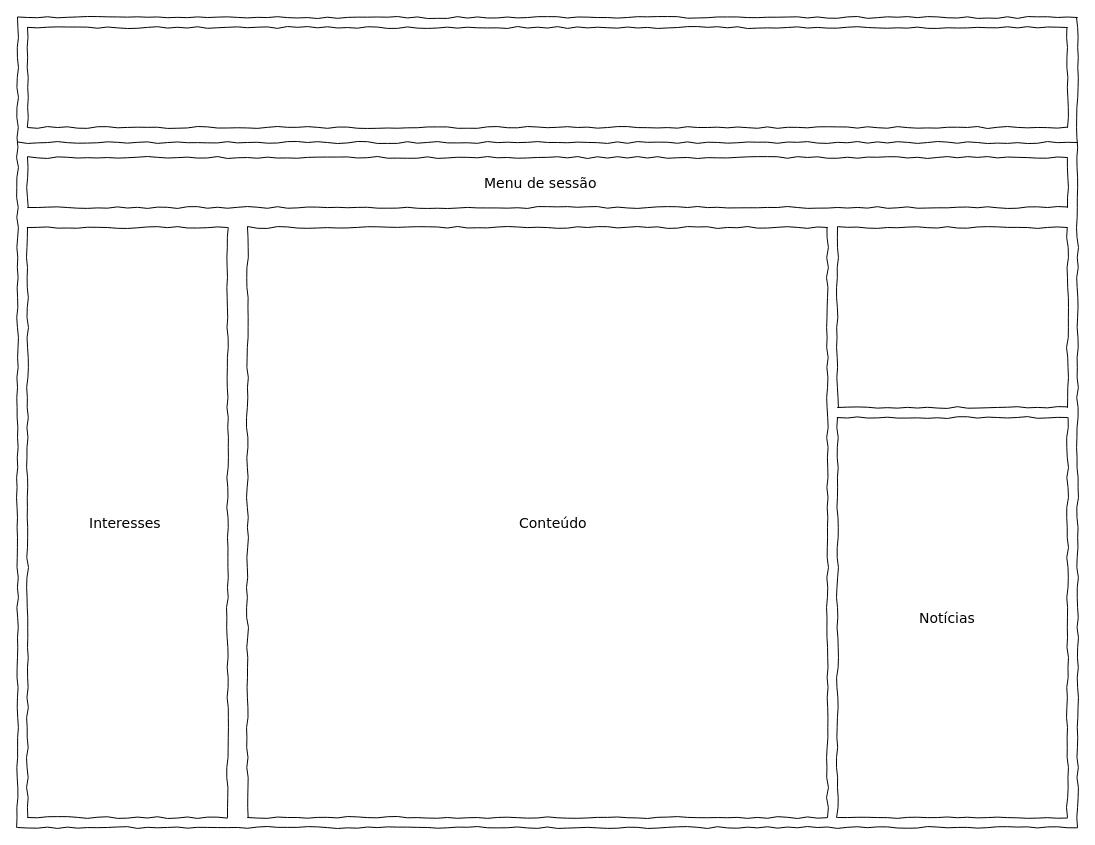
Some shapes in this 1095 by 845 pixel diagram are drawn without their labels. Each missing label, with the centre of its shape:
Cabeçalho: point 547,77
Destaques: point 952,317
